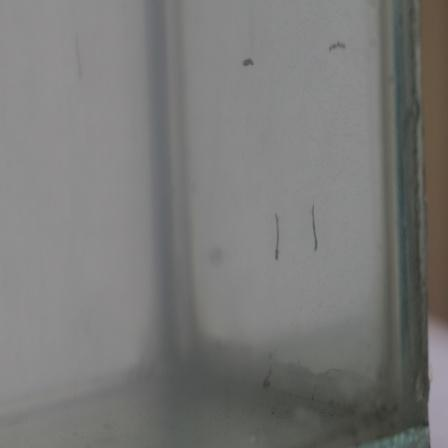Jentik-Nyamuk: (270, 208, 287, 266)
